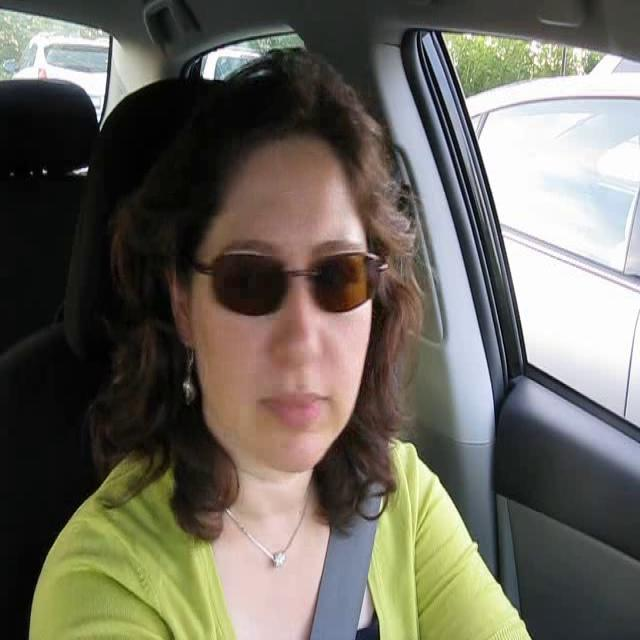close: (259, 385, 330, 432)
